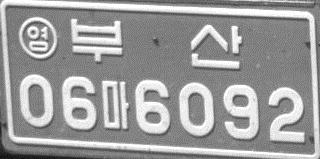0: (179, 81, 214, 139), (19, 73, 54, 128)
2: (267, 85, 306, 144)
6: (134, 78, 171, 135), (61, 75, 97, 130)
9: (222, 83, 260, 140)
마: (100, 79, 130, 132)
부산_D: (69, 18, 241, 70)
영: (18, 15, 57, 59)
